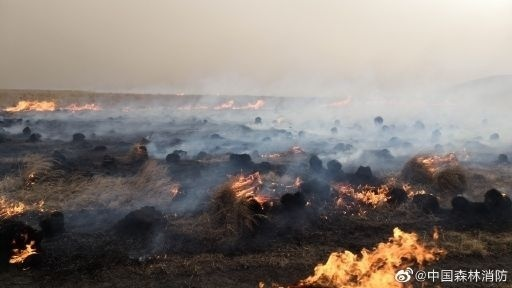fire: (290, 225, 449, 287), (331, 171, 404, 212), (222, 167, 277, 208), (2, 93, 106, 113), (0, 192, 46, 220), (412, 148, 461, 173), (8, 235, 38, 262), (261, 145, 304, 159)
